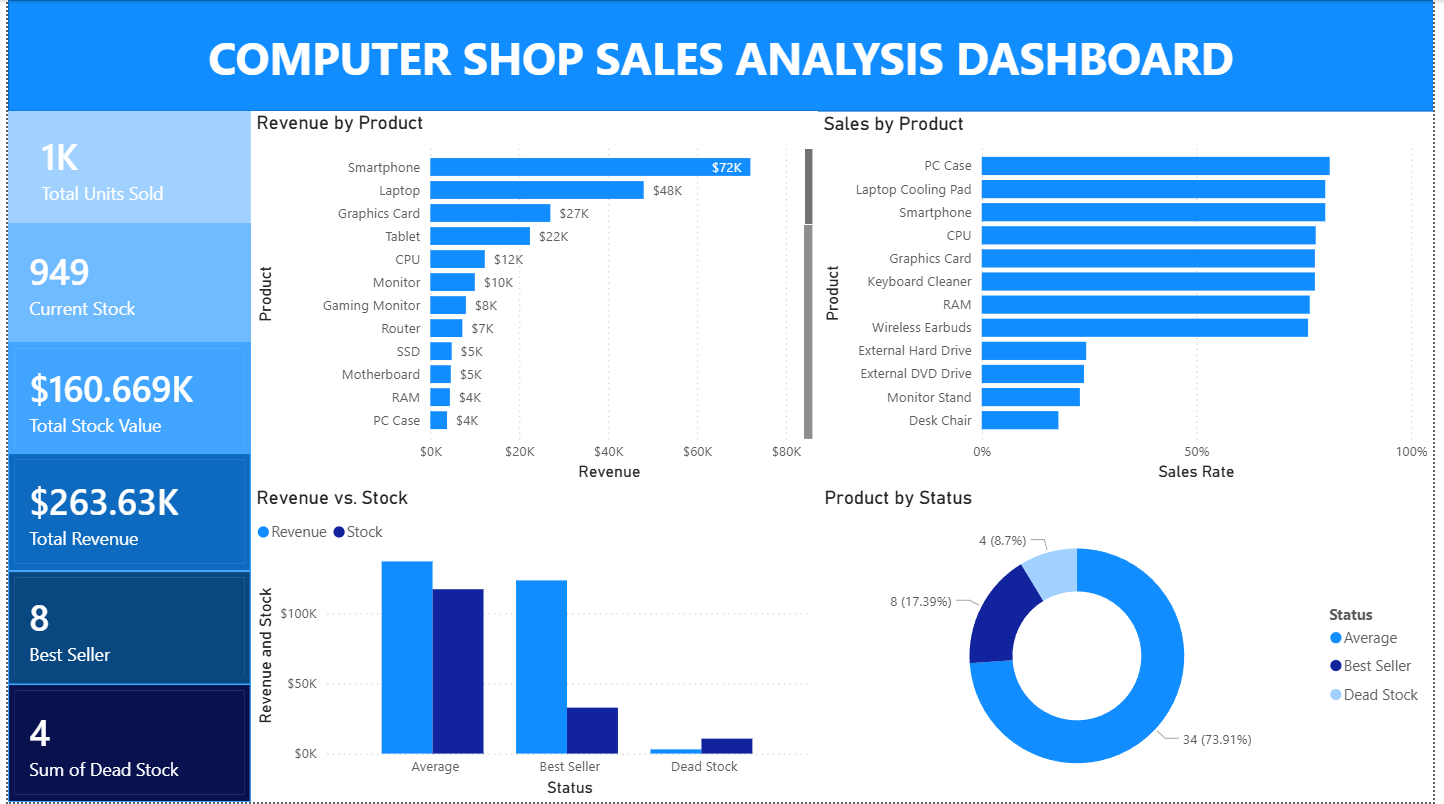

What the dashboard file says about the page in this screenshot:
{"tool":"powerbi","page":{"name":"Page 1","canvas":[1280,720],"ordinal":0},"visuals":[{"type":"shape","box":[0,0,1280,100.2],"z":0},{"type":"clusteredBarChart","title":"Revenue by Product","fields":{"Category":["Working Sheet.Product"],"Y":["Sum(Working Sheet.Revenue)"]},"box":[218.1,99.7,509.5,336.4],"z":1000},{"type":"cardVisual","fields":{"Data":["Sum(Working Sheet.Total Units Sold)"]},"box":[0,99.7,218.1,100.7],"z":2000},{"type":"cardVisual","fields":{"Data":["Sum(Working Sheet.Current  Stock)"]},"box":[0,200.5,218.1,106.6],"z":3000},{"type":"cardVisual","fields":{"Data":["Sum(Working Sheet.Stock Value)"]},"box":[0,307,218.1,102.7],"z":4000},{"type":"cardVisual","fields":{"Data":["Sum(Working Sheet.Total Revenue)"]},"box":[0,406.8,218.1,105.6],"z":5000},{"type":"cardVisual","fields":{"Data":["Sum(Working Sheet.Best Seller)"]},"box":[0,512.4,218.1,101.7],"z":6000},{"type":"cardVisual","fields":{"Data":["Sum(Working Sheet.Dead Stock)"]},"box":[0,614.1,218.1,105.6],"z":7000},{"type":"clusteredBarChart","title":"Sales by Product","fields":{"Category":["Working Sheet.Product"],"Y":["Sum(Working Sheet.Sales Rate)"]},"box":[727.5,100.7,552.5,335.4],"z":8000},{"type":"clusteredColumnChart","title":"Revenue vs. Stock","fields":{"Category":["Working Sheet.Status"],"Y":["Sum(Working Sheet.Revenue)","Sum(Working Sheet.Hand-In Stock Value)"]},"box":[218.1,436.1,508.5,283.6],"z":9000},{"type":"donutChart","fields":{"Category":["Working Sheet.Status"],"Y":["CountNonNull(Working Sheet.Product)"]},"box":[728,436,552,284],"z":10000}]}

Visuals, with their boxes in screenshot pixels (x1, y1, x2, y2), scaled from the page's 1280x720 canvas onto the 1444x804 screenshot:
shape: [0,0,1443,112]
"Revenue by Product" clusteredBarChart: [246,111,821,487]
cardVisual - Sum(Working Sheet.Total Units Sold): [0,111,246,224]
cardVisual - Sum(Working Sheet.Current  Stock): [0,224,246,343]
cardVisual - Sum(Working Sheet.Stock Value): [0,343,246,457]
cardVisual - Sum(Working Sheet.Total Revenue): [0,454,246,572]
cardVisual - Sum(Working Sheet.Best Seller): [0,572,246,686]
cardVisual - Sum(Working Sheet.Dead Stock): [0,686,246,803]
"Sales by Product" clusteredBarChart: [821,112,1443,487]
"Revenue vs. Stock" clusteredColumnChart: [246,487,820,803]
donutChart - Working Sheet.Status x CountNonNull(Working Sheet.Product): [821,487,1443,803]
